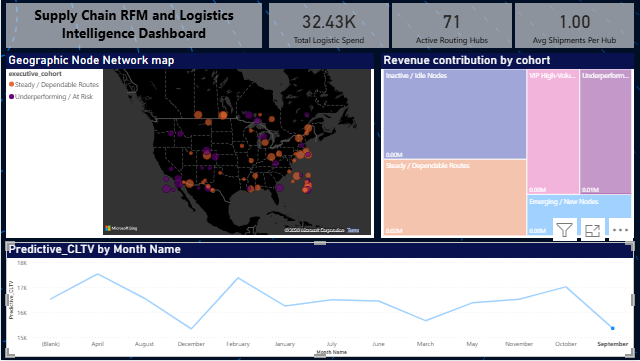

The dashboard page shown, as its layout file describes it:
{"tool":"powerbi","page":{"name":"Page 1","canvas":[1280,720],"ordinal":0},"visuals":[{"type":"card","fields":{"Values":["Sum(rfm_analytics v_executive_rfm_segmentation.raw_monetary)"]},"box":[536,6,240,90],"z":0},{"type":"card","fields":{"Values":["Count(rfm_analytics v_executive_rfm_segmentation.routing_hub)"]},"box":[782,6,240,90],"z":1000},{"type":"card","fields":{"Values":["Avg(rfm_analytics v_executive_rfm_segmentation.raw_frequency)"]},"box":[1028,6,238,90],"z":2000},{"type":"map","title":"Geographic Node Network map","fields":{"Series":["rfm_analytics v_executive_rfm_segmentation.executive_cohort"],"Y":["Avg(rfm_analytics v_executive_rfm_segmentation.Latitude)"],"X":["Avg(rfm_analytics v_executive_rfm_segmentation.Longitude)"],"Size":["Avg(predicted_cltv_projections.predicted_cltv_3_months)"]},"box":[10,106,736,370],"z":3000},{"type":"treemap","title":"Revenue contribution by cohort","fields":{"Group":["rfm_analytics v_executive_rfm_segmentation.executive_cohort"],"Values":["Sum(rfm_analytics v_executive_rfm_segmentation.raw_monetary)"]},"box":[760,106,506,370],"z":4000},{"type":"lineChart","fields":{"Y":["Avg(predicted_cltv_projections.predicted_cltv_3_months)"],"Series":["v_executive_rfm_segmentation.executive_cohort"],"Category":["Calendar.Date"]},"box":[10,484,1256,230],"z":5000},{"type":"textbox","box":[10,6,512,90],"z":6000}]}

Visuals, with their boxes in screenshot pixels (x1, y1, x2, y2), scaled from the page's 1280x720 canvas onto the 640x361 screenshot:
card - Sum(rfm_analytics v_executive_rfm_segmentation.raw_monetary): (268, 3, 388, 48)
card - Count(rfm_analytics v_executive_rfm_segmentation.routing_hub): (391, 3, 511, 48)
card - Avg(rfm_analytics v_executive_rfm_segmentation.raw_frequency): (514, 3, 633, 48)
"Geographic Node Network map" map: (5, 53, 373, 239)
"Revenue contribution by cohort" treemap: (380, 53, 633, 239)
lineChart - Avg(predicted_cltv_projections.predicted_cltv_3_months) x v_executive_rfm_segmentation.executive_cohort: (5, 243, 633, 358)
textbox: (5, 3, 261, 48)
